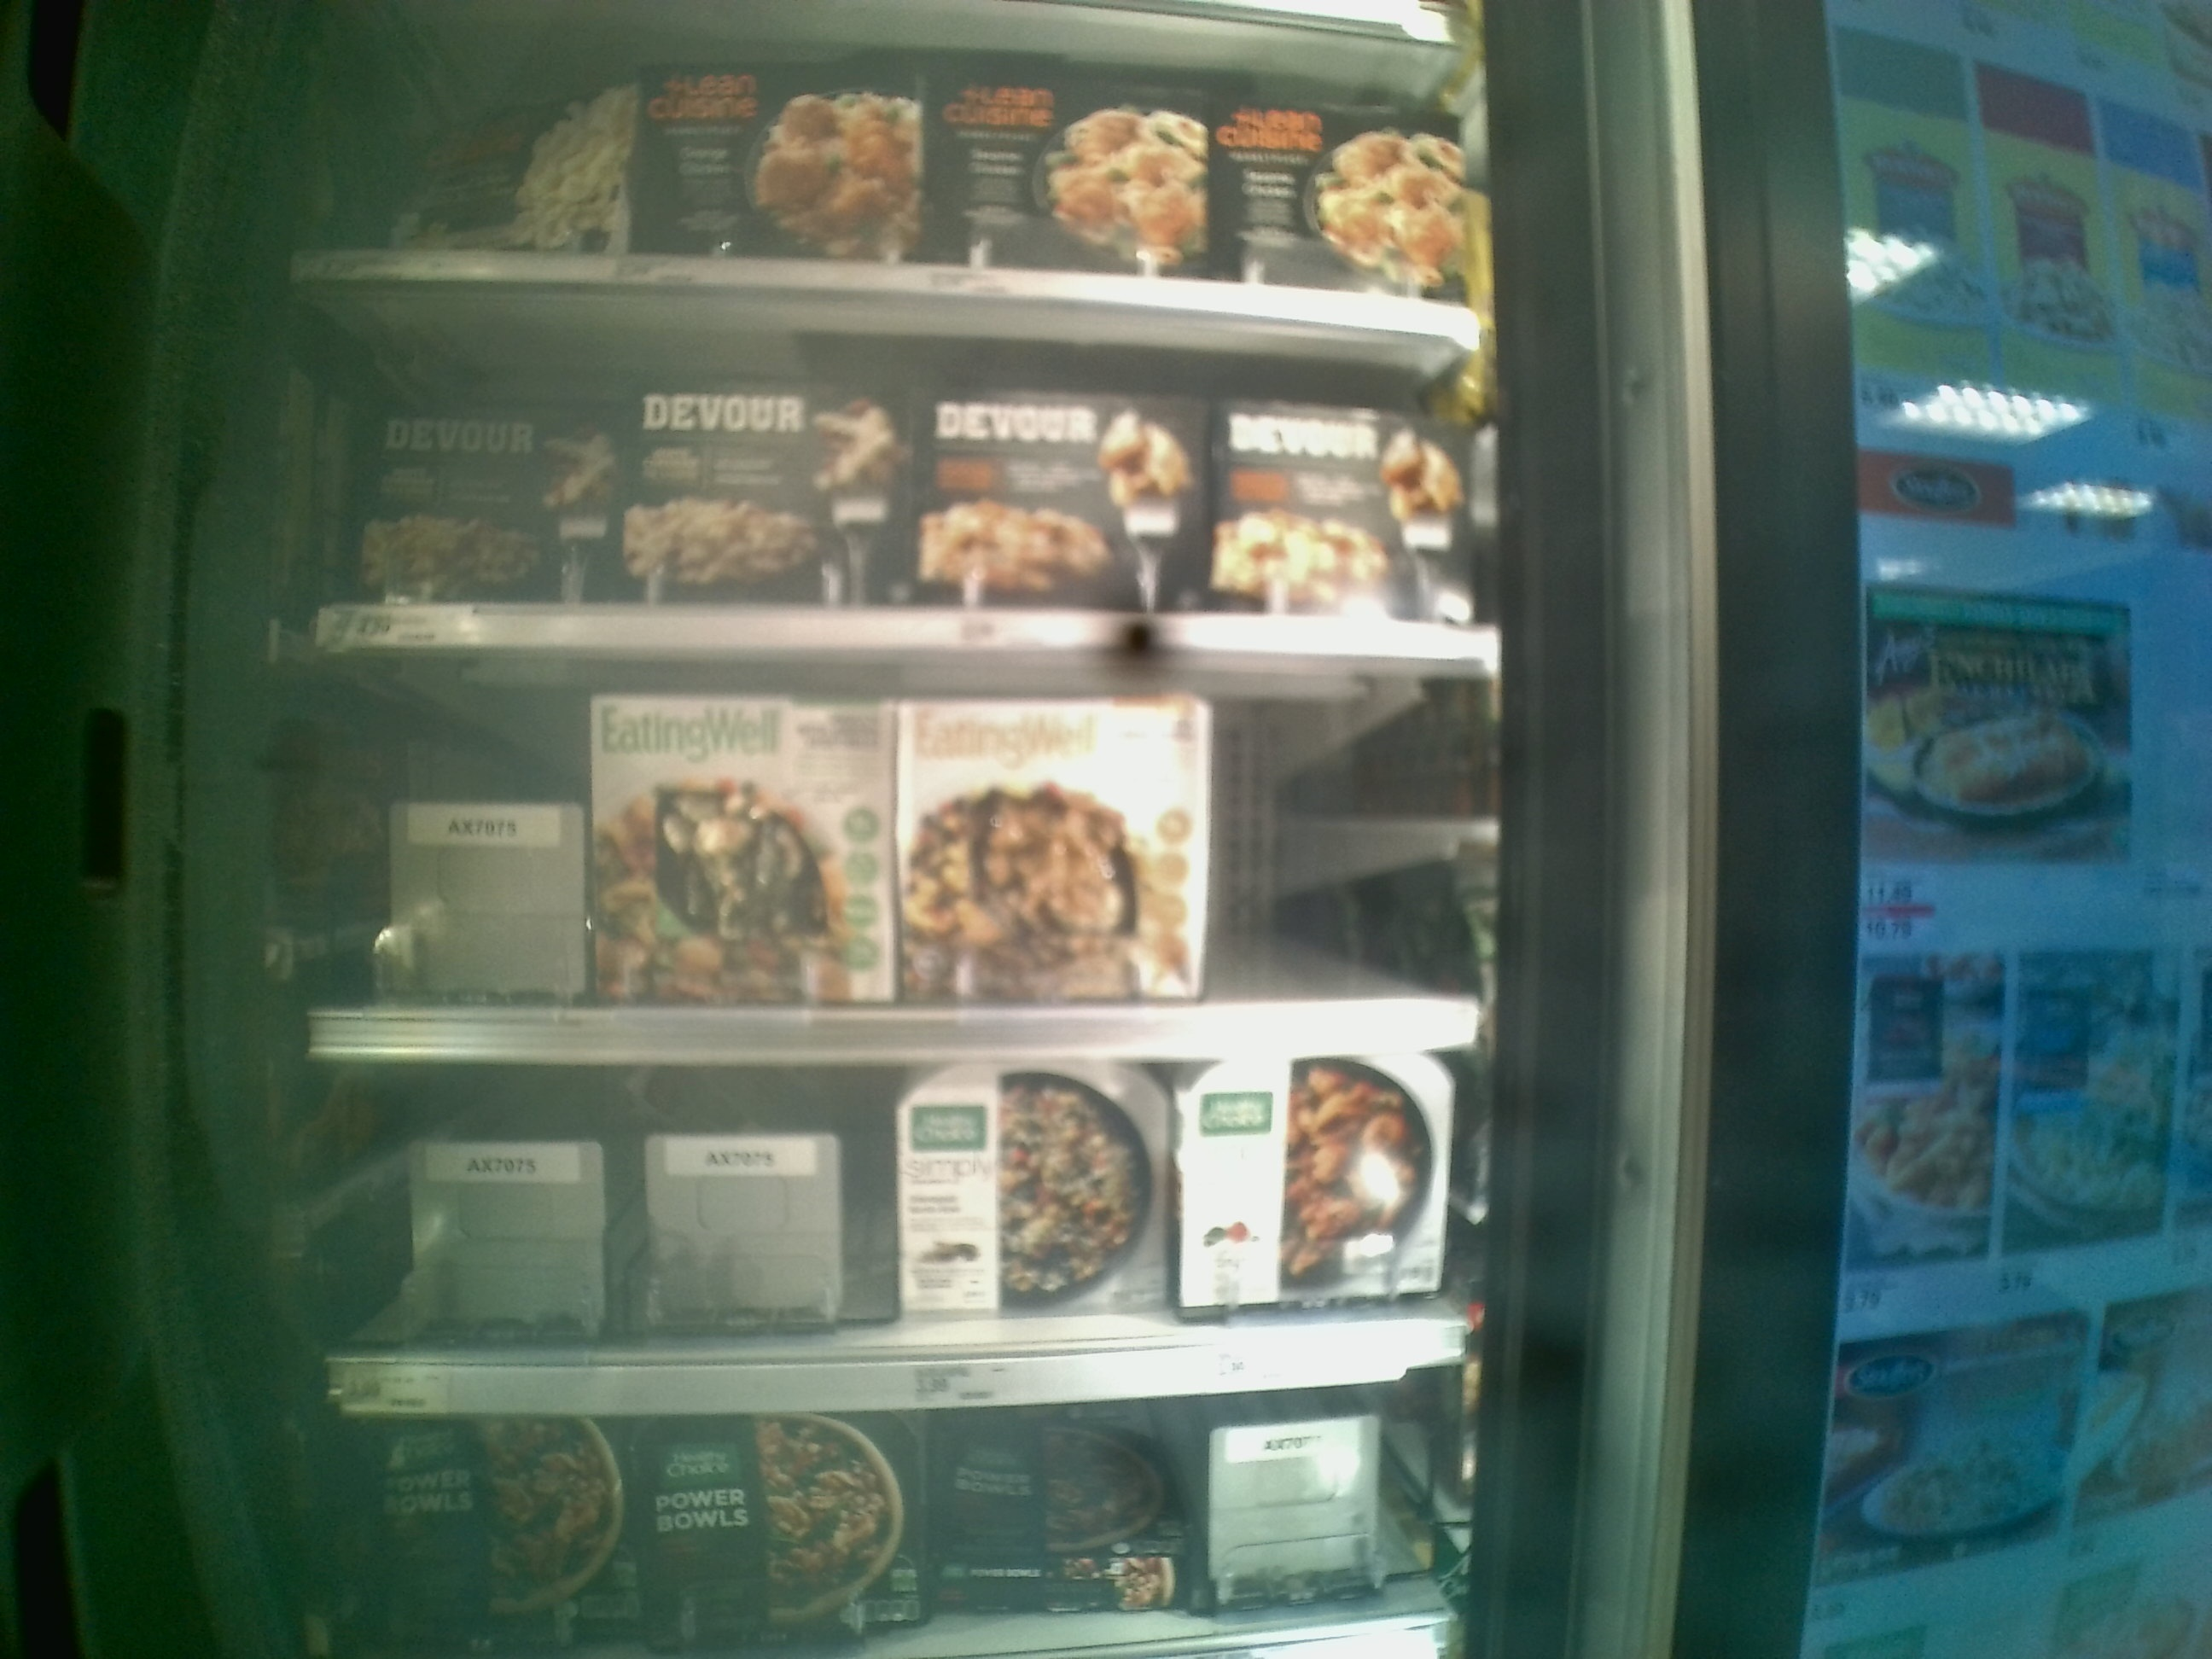shelf: (303, 647, 1486, 1060), (296, 277, 1514, 664), (310, 1053, 1498, 1417)
